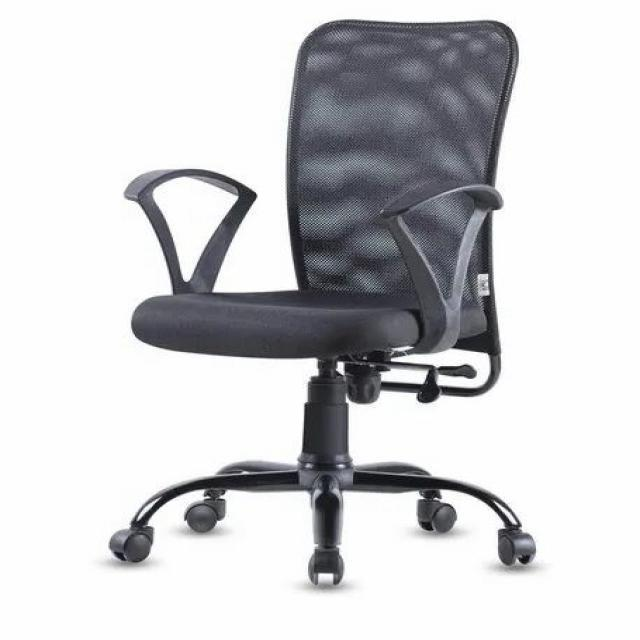chair: (84, 9, 587, 611)
